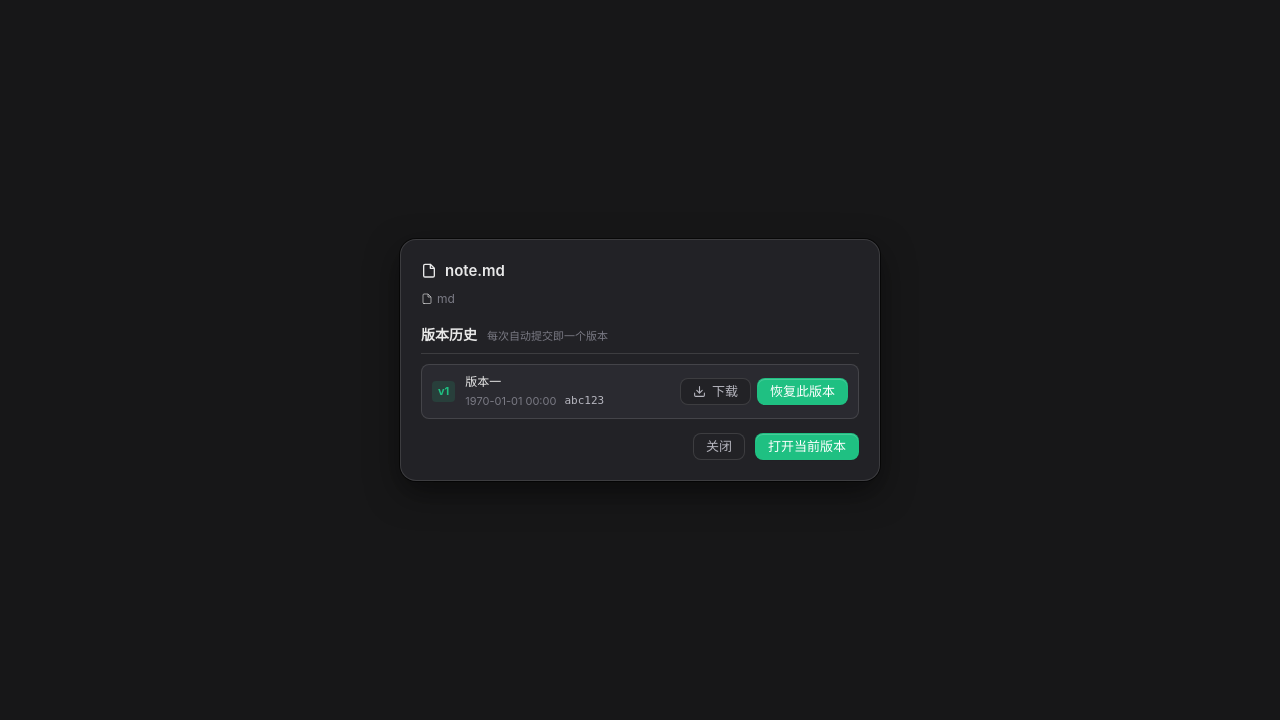
Test: FileHistoryDialog 一键恢复 › 恢复失败 → 显示安全错误文案，不出现成功提示
Click the button "恢复此版本" at (802, 392), box [757, 378, 848, 405]
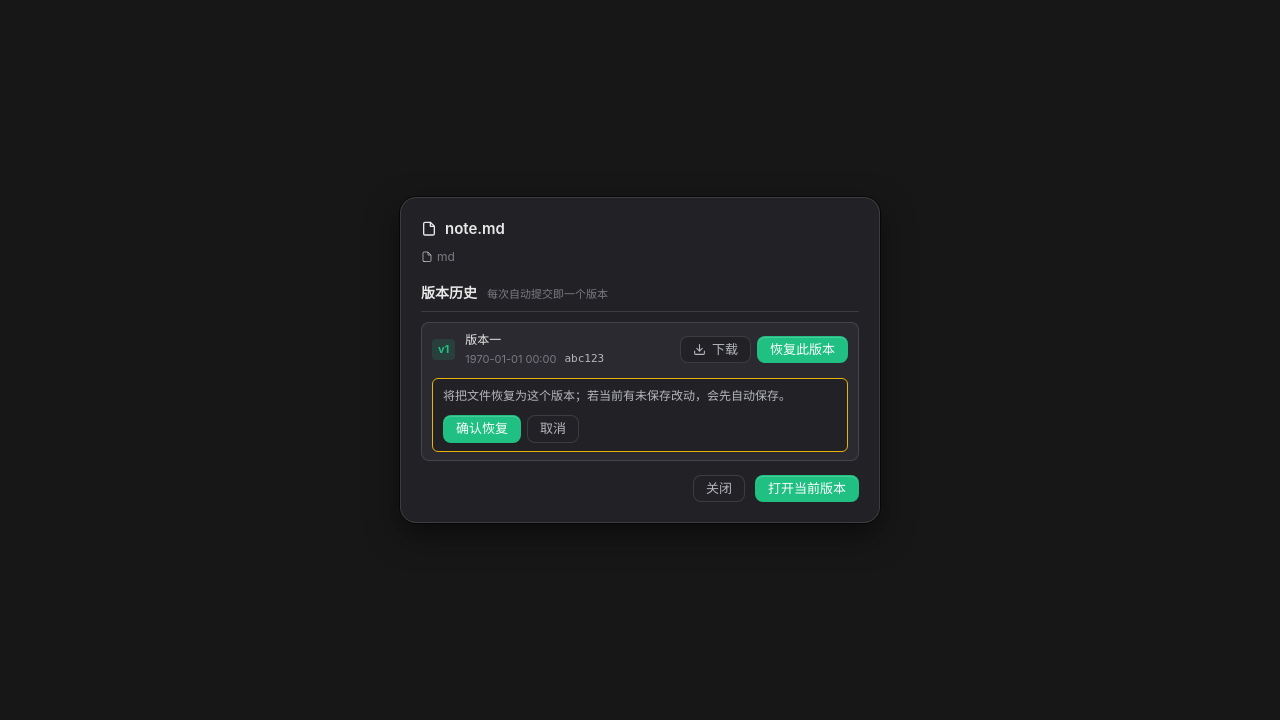
Click the button "确认恢复" at (482, 429), box [443, 415, 521, 442]
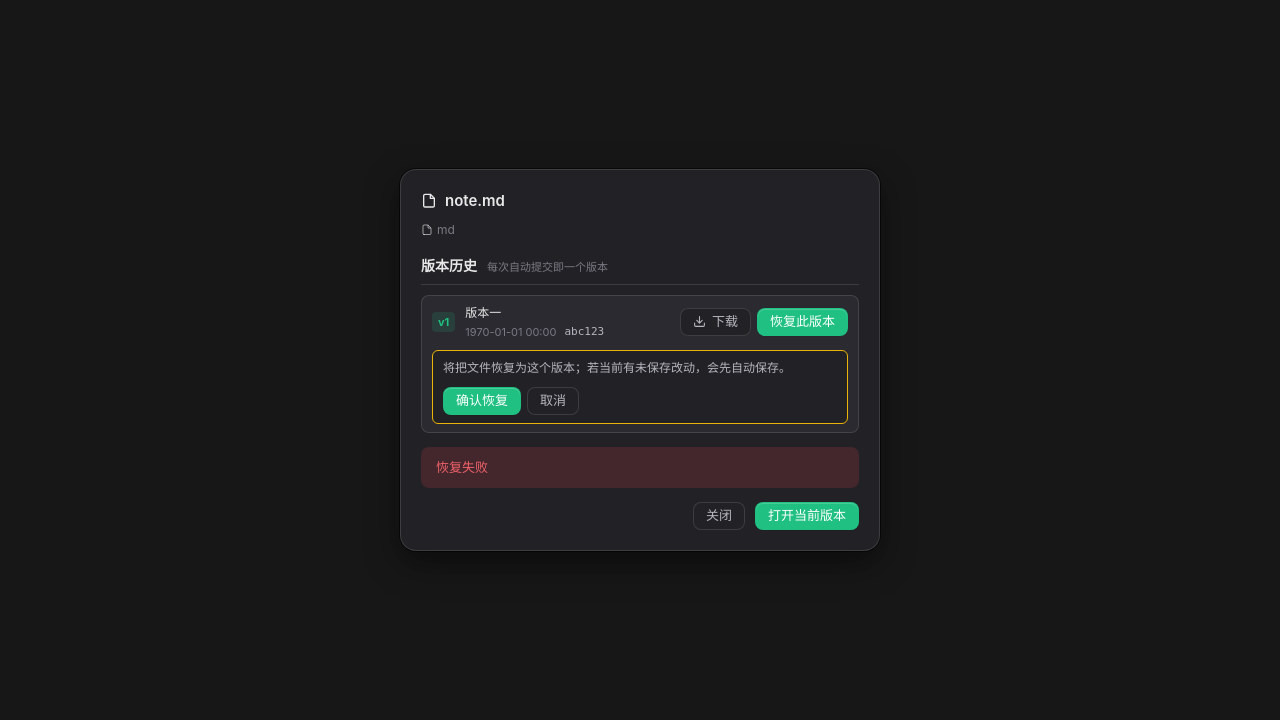
Now the text "恢复失败" is shown, box [421, 447, 859, 488]
Now the text with class "alert--error" reads "恢复失败", box [436, 459, 488, 475]
